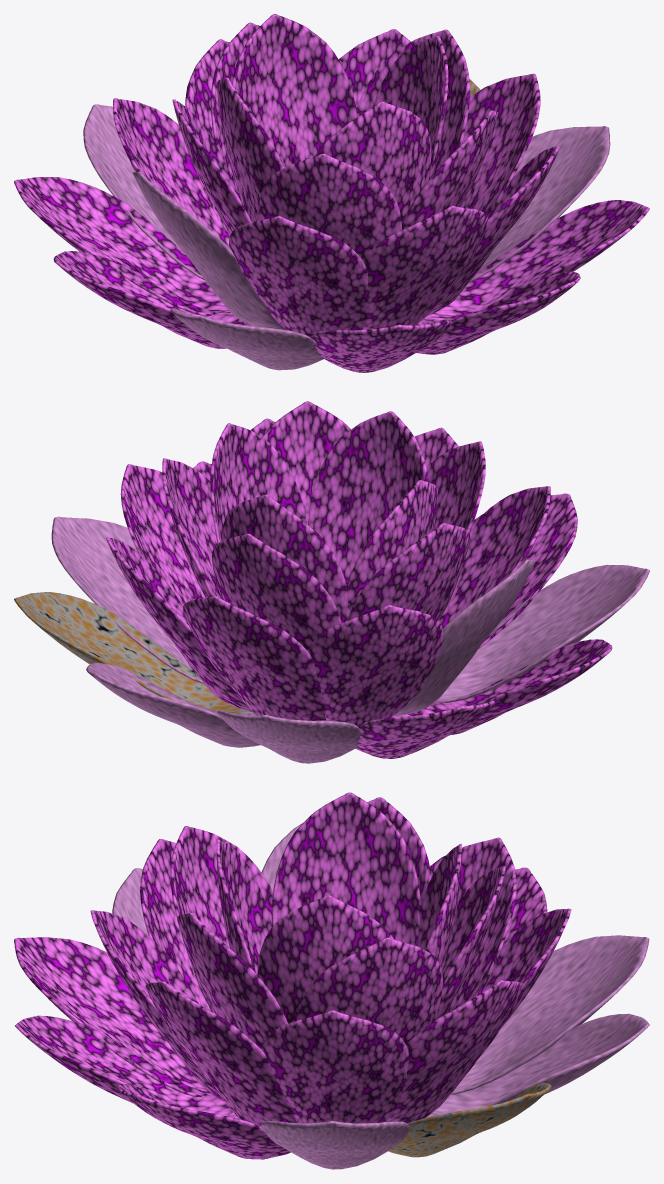
The model's file is lotos.obj.
3 renders of one model, top to bottom at view 1: azimuth 30°, elevation 25°; view 2: azimuth 150°, elevation 25°; view 3: azimuth 270°, elevation 25°, orthographic. The views are drawn at different scales.
Parts seen in each view (by area): view 1: Cylinder001, Cylinder015, Cylinder027, Cylinder016, Cylinder019, Cylinder032, Cylinder003, Cylinder023, Cylinder013, Cylinder010, Cylinder014, Cylinder028 (+13 smaller); view 2: Cylinder013, Cylinder003, Cylinder029, Cylinder022, Cylinder024, Cylinder012, Cylinder023, Cylinder015, Cylinder021, Cylinder002, Cylinder010, Cylinder001 (+12 smaller); view 3: Cylinder004, Cylinder010, Cylinder026, Cylinder030, Cylinder018, Cylinder017, Cylinder002, Cylinder011, Cylinder031, Cylinder025, Cylinder020, Cylinder016 (+14 smaller).
Part boxes in pixels (box(x1,y1,x2,y2)): Cylinder001: box(232, 14, 357, 167); Cylinder015: box(229, 216, 369, 336); Cylinder027: box(14, 177, 232, 316); Cylinder016: box(362, 205, 487, 329); Cylinder019: box(259, 153, 401, 258); Cylinder032: box(423, 200, 649, 322); Cylinder003: box(315, 101, 431, 224); Cylinder023: box(469, 126, 610, 282); Cylinder013: box(113, 98, 229, 247); Cylinder010: box(460, 73, 540, 219); Cylinder014: box(133, 171, 286, 330); Cylinder028: box(53, 251, 256, 348); Cylinder013: box(307, 605, 443, 725); Cylinder003: box(308, 411, 428, 585); Cylinder029: box(435, 564, 649, 702); Cylinder022: box(183, 596, 325, 720); Cylinder024: box(14, 592, 253, 713); Cylinder012: box(212, 533, 341, 649); Cylinder023: box(51, 516, 203, 683); Cylinder015: box(439, 486, 550, 628); Cylinder021: box(347, 523, 469, 620); Cylinder002: box(210, 423, 306, 543); Cylinder010: box(120, 464, 205, 606); Cylinder001: box(222, 494, 349, 622); Cylinder004: box(271, 792, 420, 945); Cylinder010: box(261, 1010, 409, 1123); Cylinder026: box(450, 935, 649, 1094); Cylinder030: box(14, 937, 215, 1097); Cylinder018: box(296, 937, 442, 1044); Cylinder017: box(145, 981, 297, 1125); Cylinder002: box(257, 895, 393, 1023); Cylinder011: box(384, 980, 521, 1123); Cylinder031: box(15, 1015, 240, 1119); Cylinder025: box(426, 1013, 649, 1117); Cylinder020: box(177, 912, 287, 1048); Cylinder016: box(90, 910, 223, 1101).
Bounding box in the file's own units: 3516 × 1616 × 3351.
